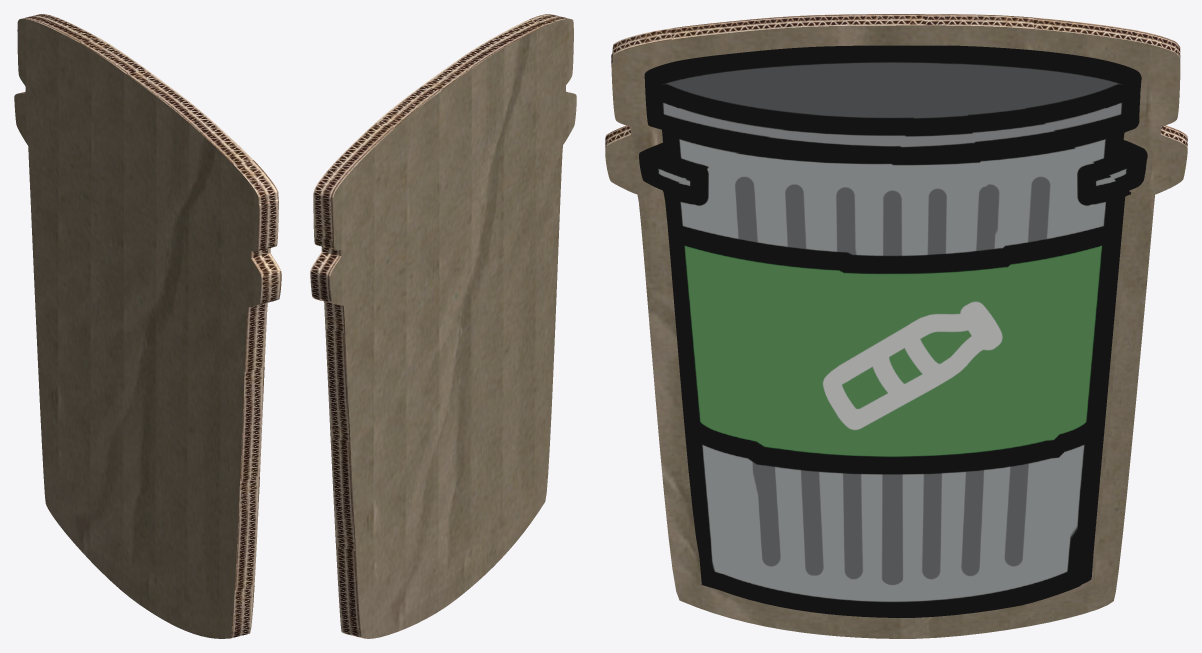
The model's file is trashcan_.fbx.
3 renders of one model, left to right at view 1: azimuth 30°, elevation 25°; view 2: azimuth 150°, elevation 25°; view 3: azimuth 270°, elevation 25°, orthographic. The views are drawn at different scales.
Visible parts, largest first — view 1: trashcan 1.001; view 2: trashcan 1.001; view 3: trashcan 1.001.
Boxes of the visible parts, box(x1,y1,x2,y2) form: trashcan 1.001: box(14, 14, 281, 638); trashcan 1.001: box(310, 14, 576, 638); trashcan 1.001: box(605, 14, 1187, 638).
Bounding box in the file's own units: 7 × 175 × 150.
3 materials, 3 textured.
